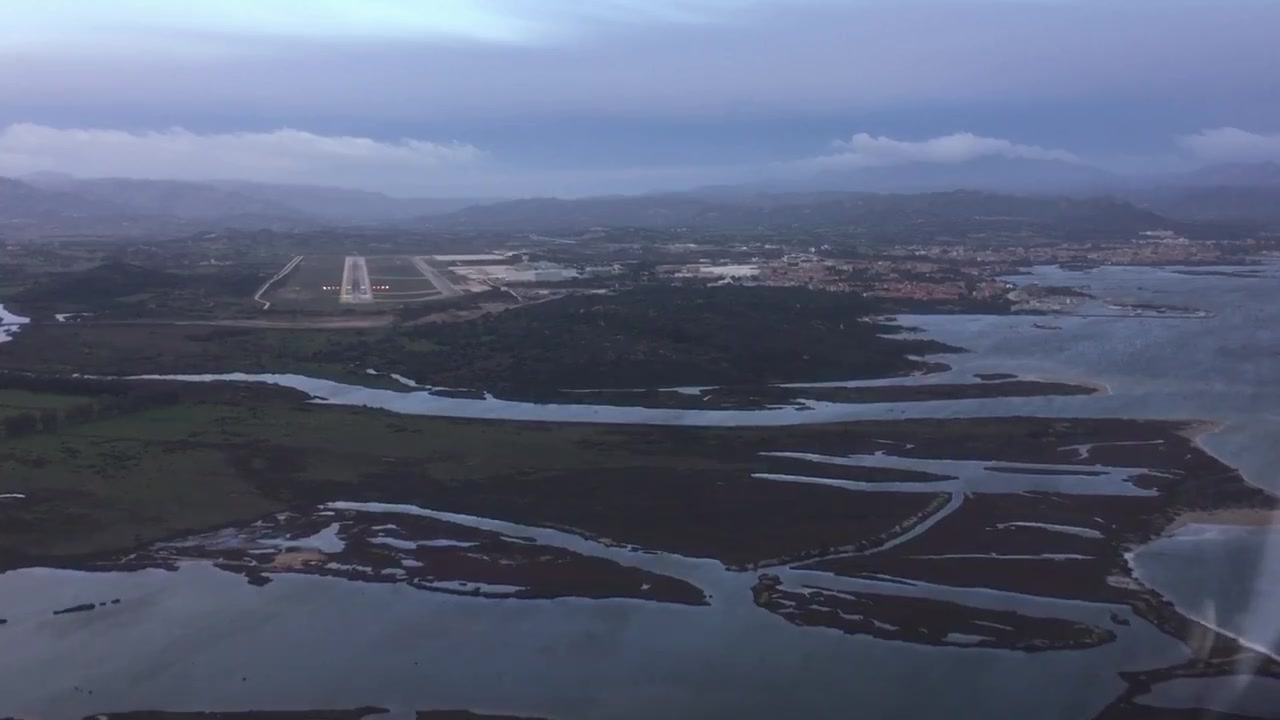runway: (339, 256, 374, 303)
